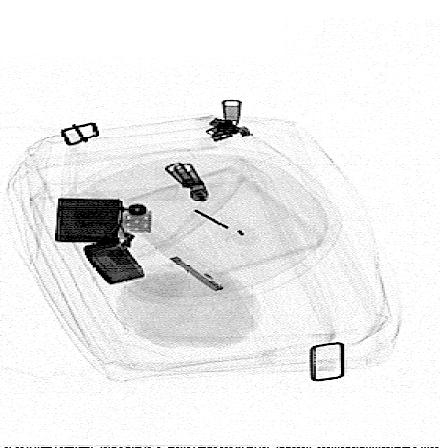Lighter: (55, 197, 153, 285)
